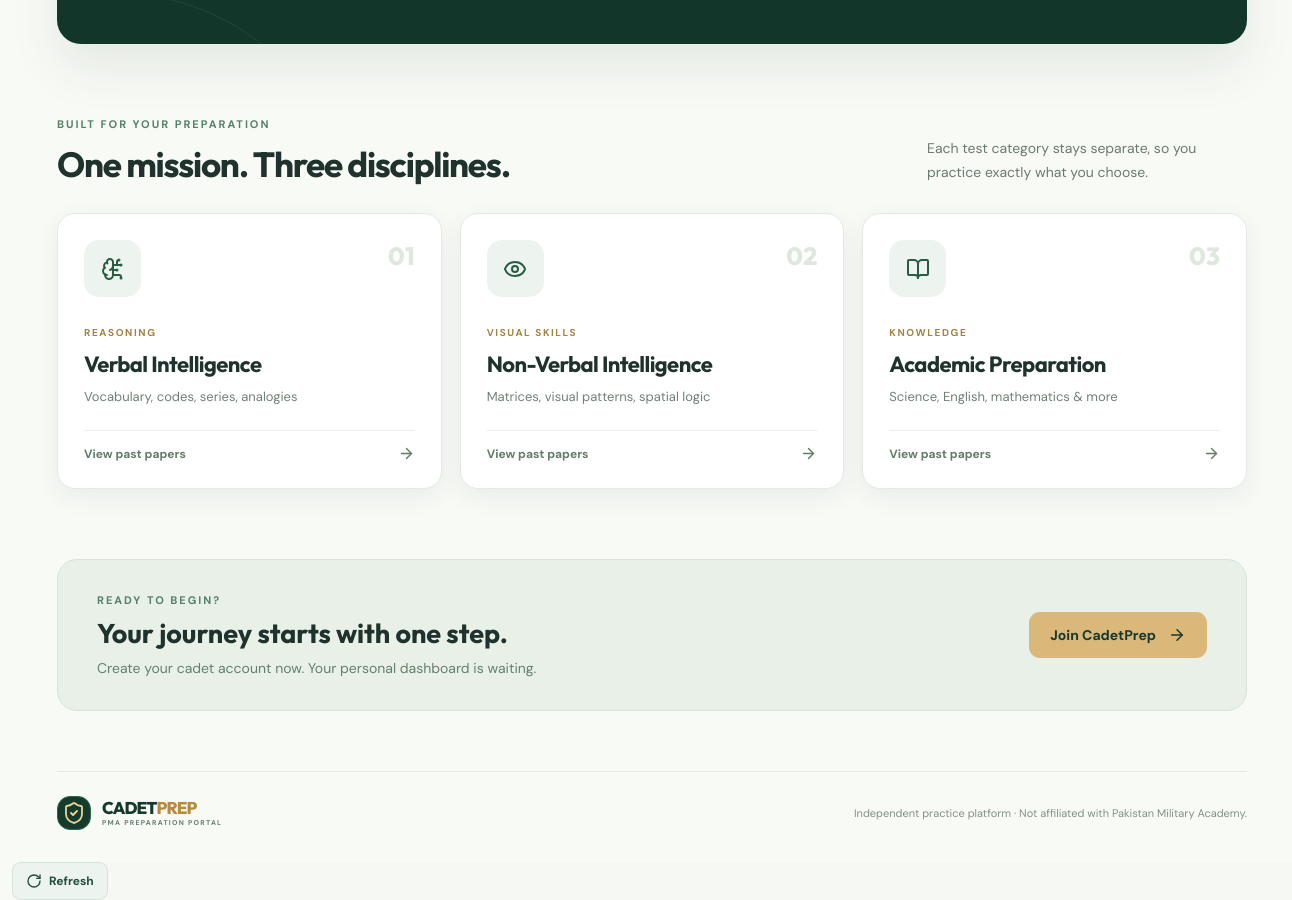
it: a failed manual refresh shows an error and can be retried
This screenshot has width=1292, height=900.
(page scrolled)
Click the button "Refresh" at (60, 881), box [12,862,108,899]
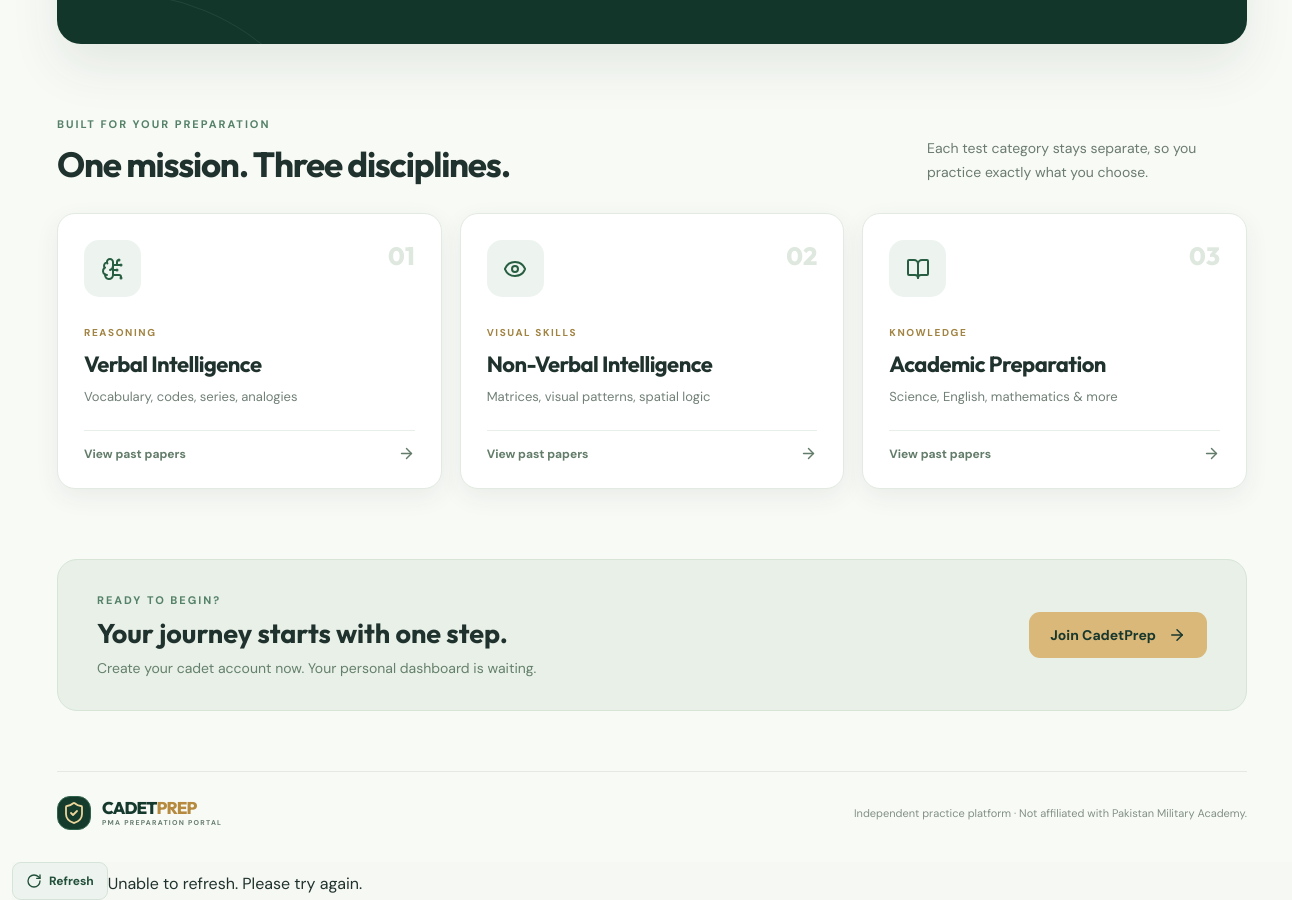
Now the message "Unable to refresh. Please try again." is shown, box [108,873,362,894]
Click the button "Refresh" at (60, 881), box [12,862,108,899]
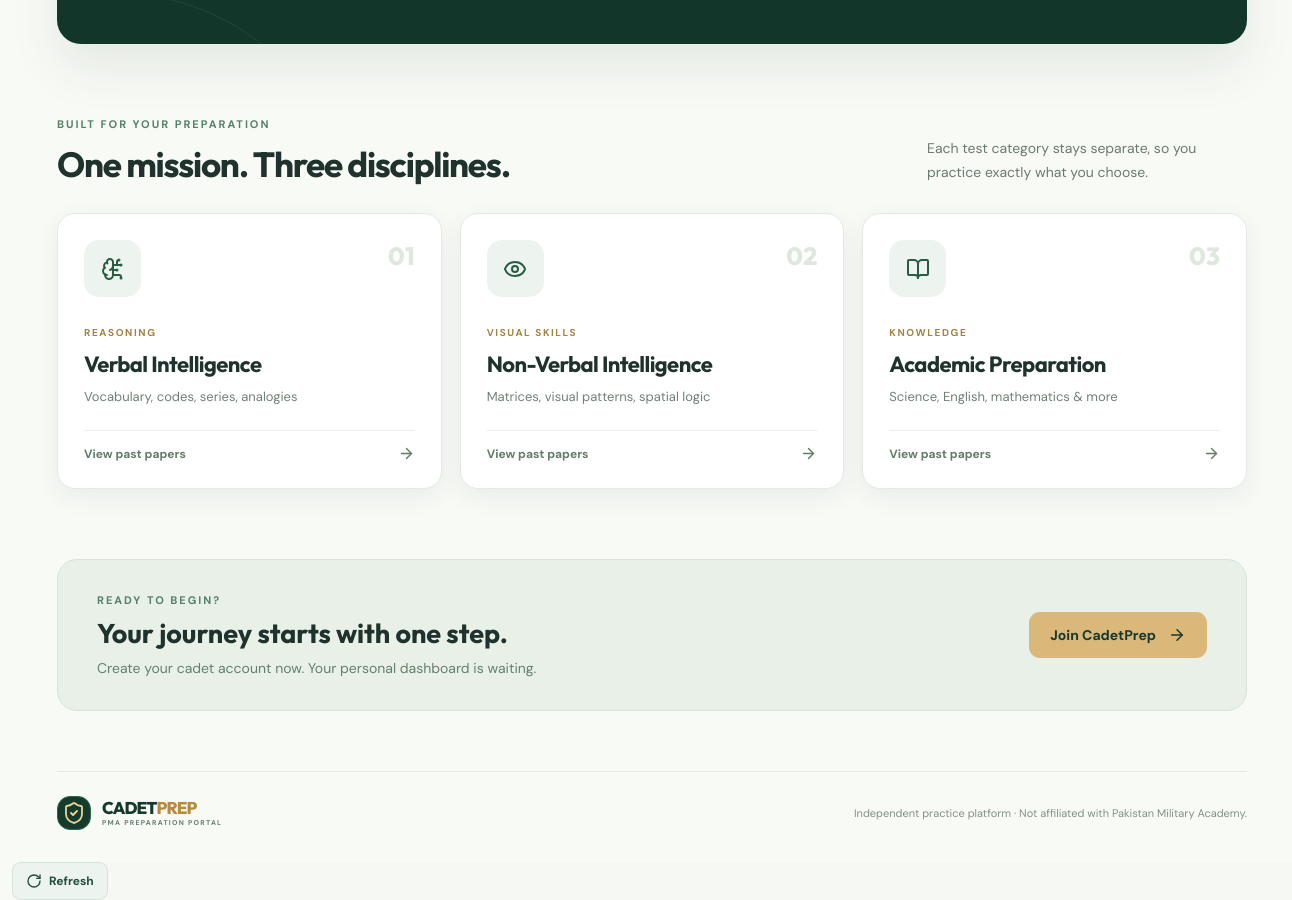
Now the message "Unable to refresh. Please try again." is gone
